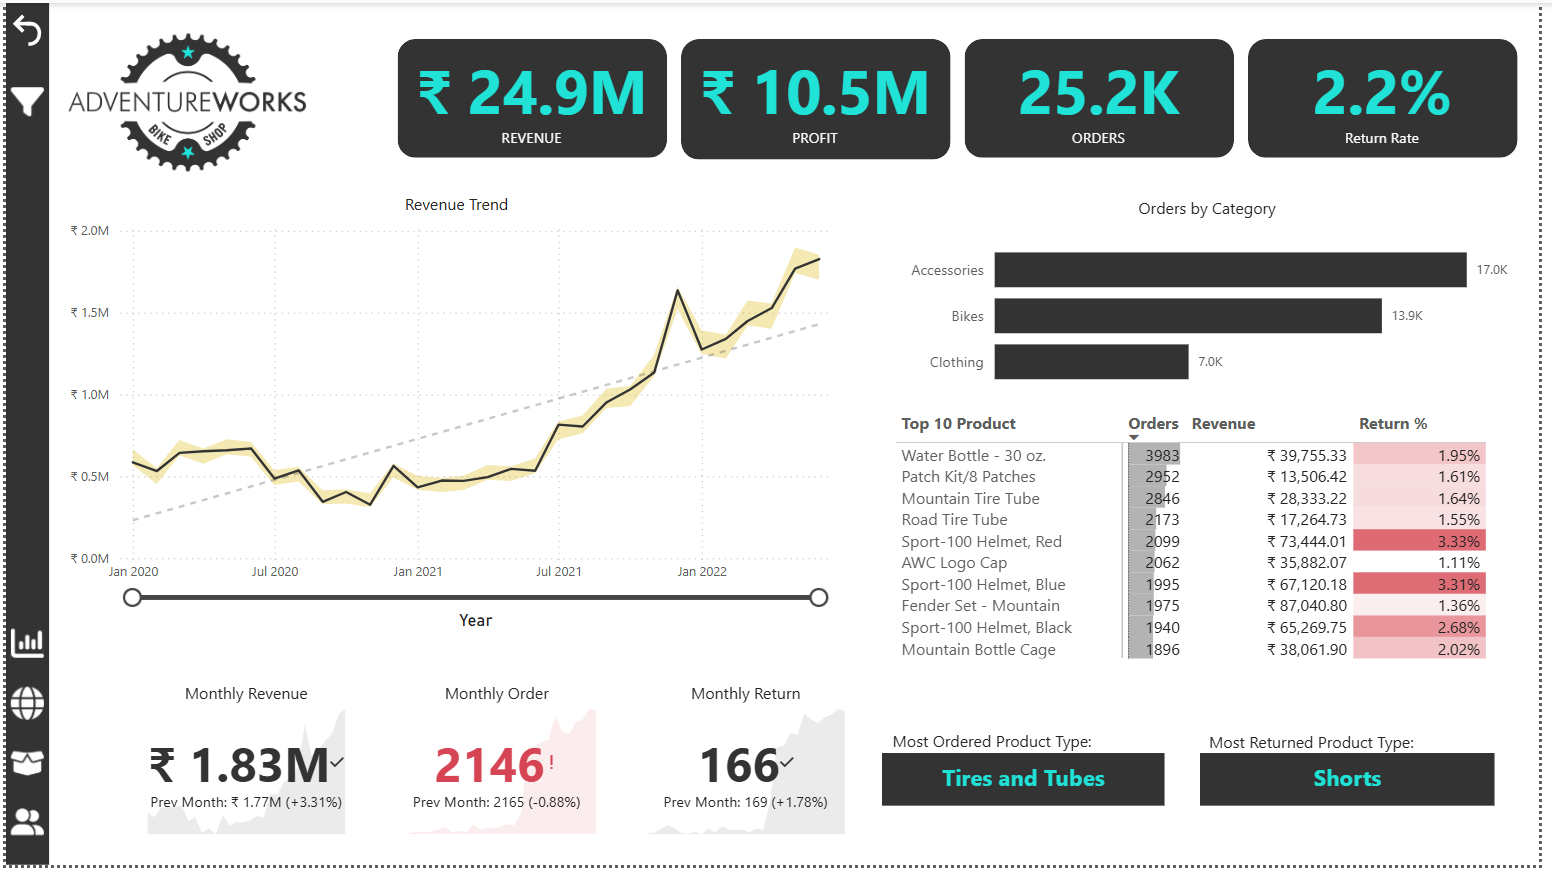

The dashboard page shown, as its layout file describes it:
{"tool":"powerbi","page":{"name":"Exec Dashboard","canvas":[1280,720],"ordinal":0},"visuals":[{"type":"card","fields":{"Values":["Measure Table.Total Revenue"]},"box":[311.7,0,253.3,158.3],"z":0,"group":"g2"},{"type":"image","title":"AW logo","box":[25,3.3,253.3,158.3],"z":0},{"type":"group","id":"g1","title":"KPI's backgroung","box":[326.2,29.8,935.5,100.8],"z":0,"group":"g3"},{"type":"shape","box":[326.2,29.8,225.2,99.2],"z":0,"group":"g1"},{"type":"actionButton","box":[0,514.6,35.7,39.8],"z":0,"group":"g4"},{"type":"shape","title":"Left NW navigation","box":[0,0,36.2,719.8],"z":1000},{"type":"group","id":"g2","title":"KPI's CARD","box":[311.7,0,963.3,158.3],"z":1000,"group":"g3"},{"type":"card","fields":{"Values":["Measure Table.Total Profit"]},"box":[548.4,0,253.3,158.3],"z":1000,"group":"g2"},{"type":"shape","box":[563,29.8,225.2,100.8],"z":1000,"group":"g1"},{"type":"actionButton","box":[0,564.5,35.7,39.8],"z":1000,"group":"g4"},{"type":"group","id":"g3","title":"KPI's","box":[311.7,0,963.3,158.3],"z":2000},{"type":"card","fields":{"Values":["Measure Table.Total Orders"]},"box":[785,0,253.3,158.3],"z":2000,"group":"g2"},{"type":"shape","box":[799.7,29.8,225.2,99.2],"z":2000,"group":"g1"},{"type":"actionButton","box":[0,614.3,35.7,39.8],"z":2000,"group":"g4"},{"type":"card","fields":{"Values":["Measure Table.Return Rate"]},"box":[1021.7,0,253.3,158.3],"z":3000,"group":"g2"},{"type":"shape","box":[1036.5,29.8,225.2,99.2],"z":3000,"group":"g1"},{"type":"lineChart","title":"Revenue Trend","fields":{"Y":["Measure Table.Total Revenue"],"Category":["Calendar Lookup.Date.Variation.Date Hierarchy.Year","Calendar Lookup.Date.Variation.Date Hierarchy.Quarter","Calendar Lookup.Date.Variation.Date Hierarchy.Month"]},"box":[48,157.8,657.3,370.5],"z":3000},{"type":"actionButton","box":[0,664.2,35.7,39.8],"z":3000,"group":"g4"},{"type":"kpi","title":"Monthly Revenue","fields":{"Goal":["Measure Table.Previous Months Revenue"],"TrendLine":["Calendar Lookup.Date Hierarchy.Start of Month"],"Indicator":["Measure Table.Total Revenue"]},"box":[112.9,565.7,175.7,132.9],"z":4000},{"type":"kpi","title":"Monthly Order","fields":{"TrendLine":["Calendar Lookup.Date Hierarchy.Start of Month"],"Indicator":["Measure Table.Total Orders"],"Goal":["Measure Table.Previous Month Order"]},"box":[321.4,565.7,175.7,132.9],"z":5000},{"type":"kpi","title":"Monthly Return","fields":{"TrendLine":["Calendar Lookup.Date Hierarchy.Start of Month"],"Indicator":["Measure Table.Total Retuens"],"Goal":["Measure Table.Previous Month Return"]},"box":[530,565.7,175.7,132.9],"z":6000},{"type":"clusteredBarChart","title":"Orders by Category","fields":{"Category":["Product Categories Lookup.CategoryName"],"Y":["Measure Table.Total Orders"]},"box":[745.7,161.4,515.7,174.3],"z":7000},{"type":"pivotTable","fields":{"Rows":["Product Lookup.ProductName"],"Values":["Measure Table.Total Orders","Measure Table.Total Revenue","Measure Table.Return Rate"]},"box":[738.6,335.7,511.4,227.1],"z":8000},{"type":"card","fields":{"Values":["Min(Product Subcategories Lookup.SubcategoryName)"]},"box":[731.4,626.6,235.7,44.3],"z":9000},{"type":"textbox","box":[735.6,601.1,192.1,28.8],"z":10000},{"type":"card","fields":{"Values":["Min(Product Subcategories Lookup.SubcategoryName)"]},"box":[997.1,626.6,245.7,44.3],"z":11000},{"type":"textbox","box":[1000.4,602.5,181.1,32.9],"z":12000},{"type":"actionButton","box":[0,0,35.7,45.3],"z":13000},{"type":"group","id":"g4","title":"Navigation Buttons","box":[0,514.6,35.7,189.4],"z":14000},{"type":"actionButton","box":[0,63.1,35.7,39.8],"z":15000}]}

Visuals, with their boxes on the page's 1280x720 design canvas (x1, y1, x2, y2). These are canvas units, not pixel positions in the 1552x869 screenshot, which may show the page scaled, cropped or inside an application window:
card - Measure Table.Total Revenue: {"left": 312, "top": 0, "right": 565, "bottom": 158}
"AW logo" image: {"left": 25, "top": 3, "right": 278, "bottom": 162}
"KPI's backgroung" group: {"left": 326, "top": 30, "right": 1262, "bottom": 131}
shape: {"left": 326, "top": 30, "right": 551, "bottom": 129}
actionButton: {"left": 0, "top": 515, "right": 36, "bottom": 554}
"Left NW navigation" shape: {"left": 0, "top": 0, "right": 36, "bottom": 720}
"KPI's CARD" group: {"left": 312, "top": 0, "right": 1275, "bottom": 158}
card - Measure Table.Total Profit: {"left": 548, "top": 0, "right": 802, "bottom": 158}
shape: {"left": 563, "top": 30, "right": 788, "bottom": 131}
actionButton: {"left": 0, "top": 564, "right": 36, "bottom": 604}
"KPI's" group: {"left": 312, "top": 0, "right": 1275, "bottom": 158}
card - Measure Table.Total Orders: {"left": 785, "top": 0, "right": 1038, "bottom": 158}
shape: {"left": 800, "top": 30, "right": 1025, "bottom": 129}
actionButton: {"left": 0, "top": 614, "right": 36, "bottom": 654}
card - Measure Table.Return Rate: {"left": 1022, "top": 0, "right": 1275, "bottom": 158}
shape: {"left": 1036, "top": 30, "right": 1262, "bottom": 129}
"Revenue Trend" lineChart: {"left": 48, "top": 158, "right": 705, "bottom": 528}
actionButton: {"left": 0, "top": 664, "right": 36, "bottom": 704}
"Monthly Revenue" kpi: {"left": 113, "top": 566, "right": 289, "bottom": 699}
"Monthly Order" kpi: {"left": 321, "top": 566, "right": 497, "bottom": 699}
"Monthly Return" kpi: {"left": 530, "top": 566, "right": 706, "bottom": 699}
"Orders by Category" clusteredBarChart: {"left": 746, "top": 161, "right": 1261, "bottom": 336}
pivotTable - Product Lookup.ProductName x Measure Table.Total Orders: {"left": 739, "top": 336, "right": 1250, "bottom": 563}
card - Min(Product Subcategories Lookup.SubcategoryName): {"left": 731, "top": 627, "right": 967, "bottom": 671}
textbox: {"left": 736, "top": 601, "right": 928, "bottom": 630}
card - Min(Product Subcategories Lookup.SubcategoryName): {"left": 997, "top": 627, "right": 1243, "bottom": 671}
textbox: {"left": 1000, "top": 602, "right": 1182, "bottom": 635}
actionButton: {"left": 0, "top": 0, "right": 36, "bottom": 45}
"Navigation Buttons" group: {"left": 0, "top": 515, "right": 36, "bottom": 704}
actionButton: {"left": 0, "top": 63, "right": 36, "bottom": 103}
